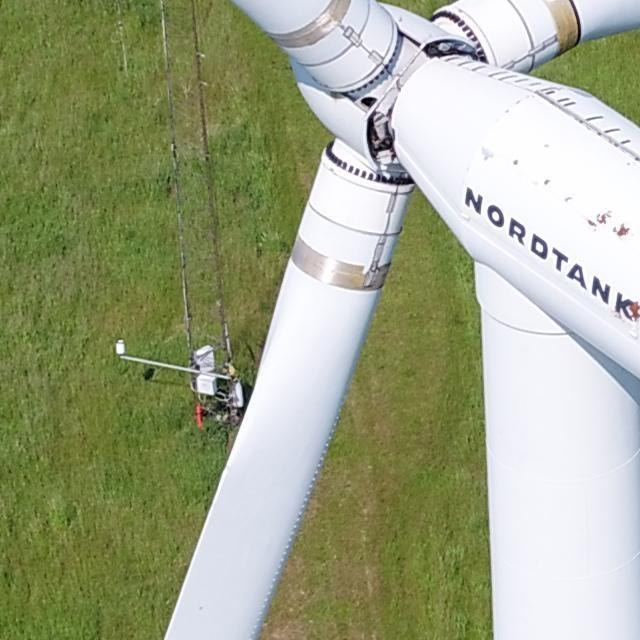damage: (611, 219, 632, 239), (628, 300, 640, 322), (481, 150, 496, 161), (598, 211, 609, 226), (585, 218, 599, 229), (541, 177, 554, 187), (562, 195, 575, 204), (514, 157, 519, 167)
